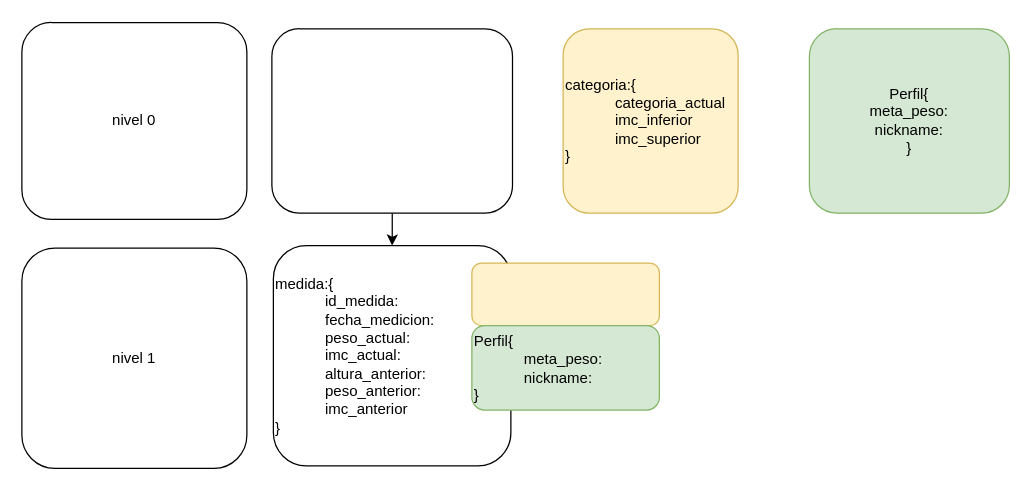
Image size: 1031x490. Some labels were removed from this diagram. The shapes that lost their labels are listed below. From the top down, each one's centre as x and y in pixels, then its label:
At (391,120): "Usuario{ id: nombre_usuario: nombre: apellido: email: fecha_creacion: status: }".
At (565,294): "categoria{categoria_actual}".
